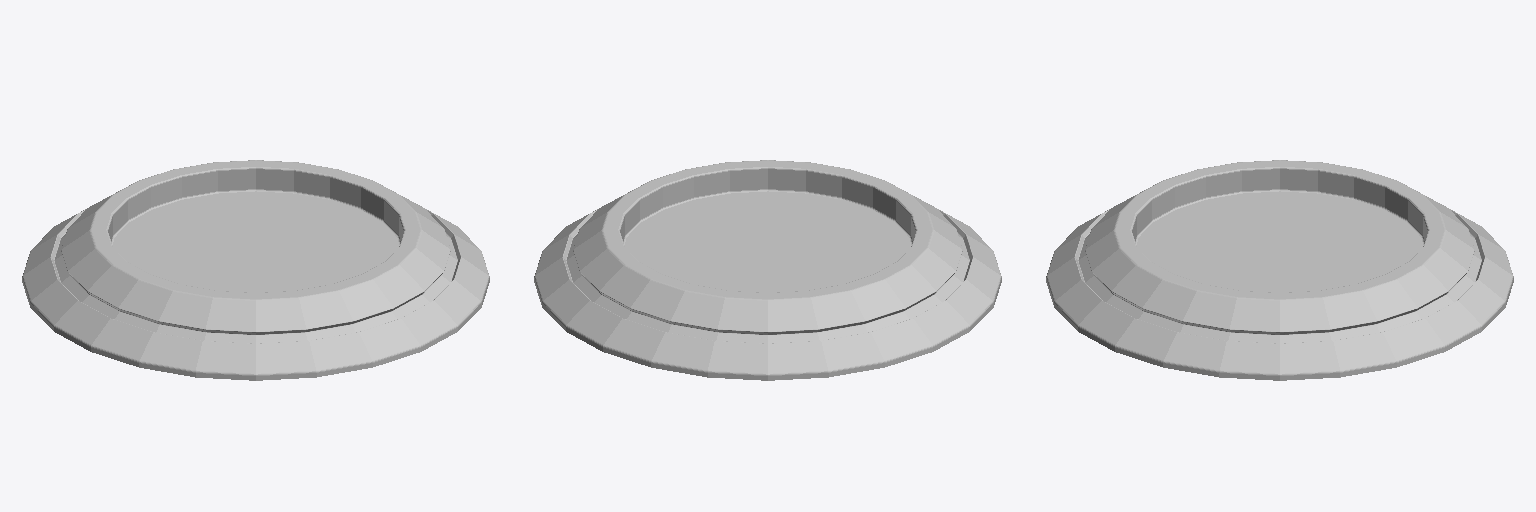
File: water_pool.obj
The picture shows the model from 3 angles: view 1: azimuth 30°, elevation 25°; view 2: azimuth 150°, elevation 25°; view 3: azimuth 270°, elevation 25°; orthographic projection.
Visible parts, largest first — view 1: polySurface776 pTorus12; view 2: polySurface776 pTorus12; view 3: polySurface776 pTorus12.
Boxes of the visible parts, x1=… form: polySurface776 pTorus12: x1=22, y1=160, x2=489, y2=380; polySurface776 pTorus12: x1=534, y1=160, x2=1001, y2=380; polySurface776 pTorus12: x1=1046, y1=160, x2=1513, y2=380.
Size of the model in its own units: 48.03 by 5.92 by 48.03.